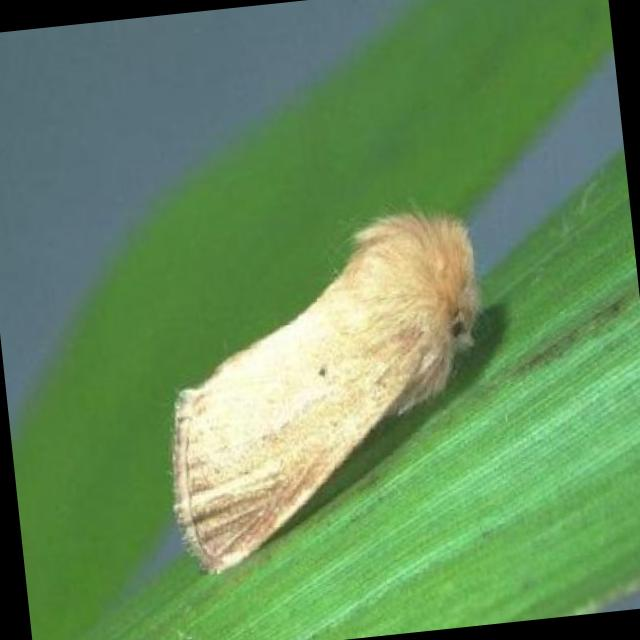stem-borer: (138, 195, 511, 588)
